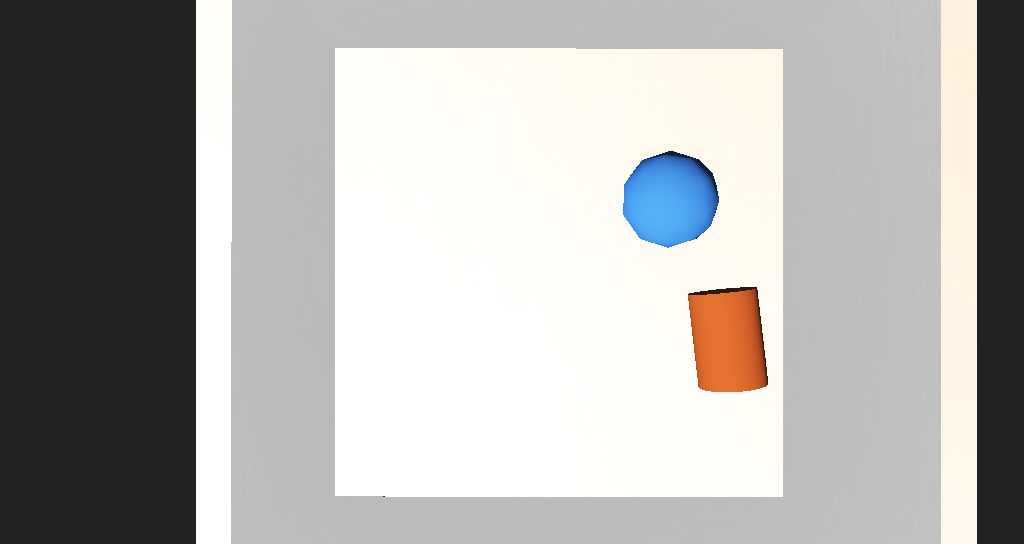cone: (589, 274, 650, 327)
cylinder: (317, 38, 397, 105)
sphere: (549, 210, 610, 258)
